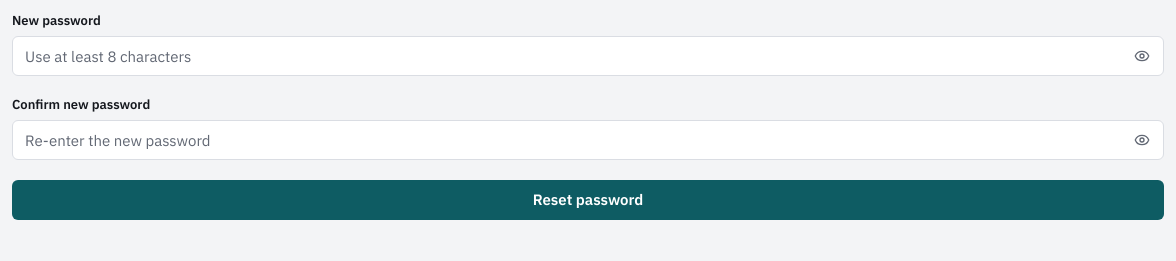
Test case: PasswordResetForm › shows a mismatch error when the confirmation does not match
Type "updated-password123" into the password field labelled "New password" at point(588, 56), box [12,36,1164,76]
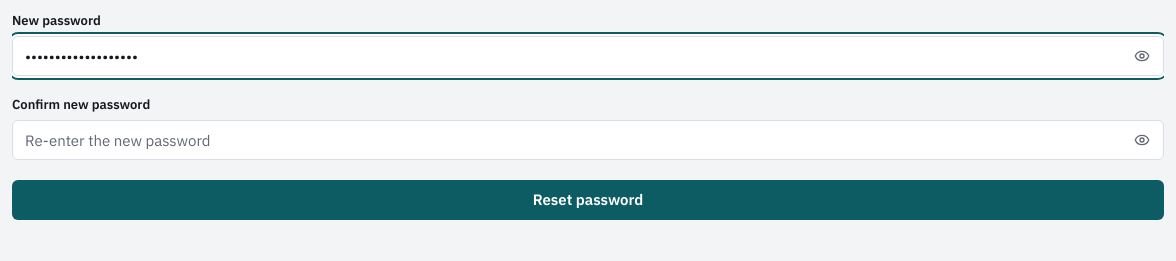
Type "different-password123" into the password field labelled "Confirm new password" at point(588, 140), box [12,120,1164,160]
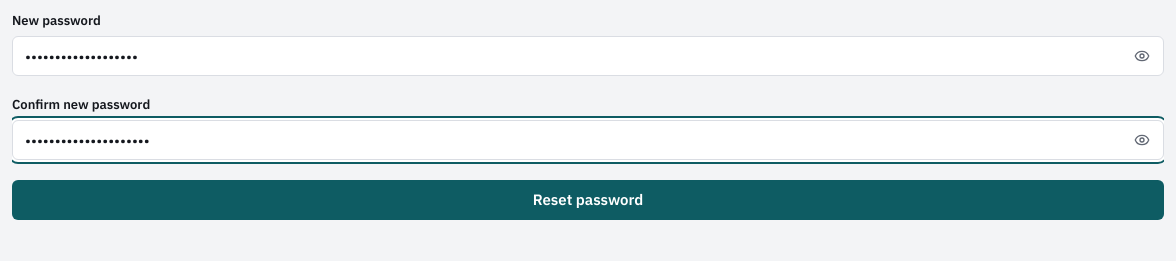
Click the button "Reset password" at point(588, 200), box [12,180,1164,220]
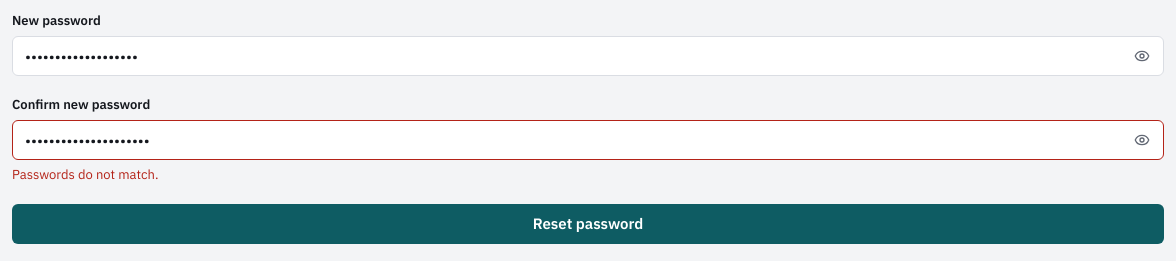
expect the text "Passwords do not match." is shown: met, box [12,166,158,183]
